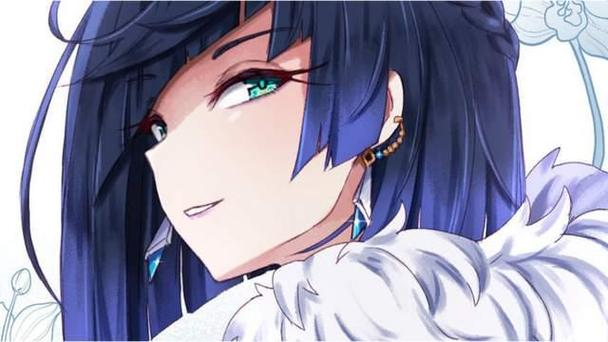夜兰: (56, 1, 608, 342)
